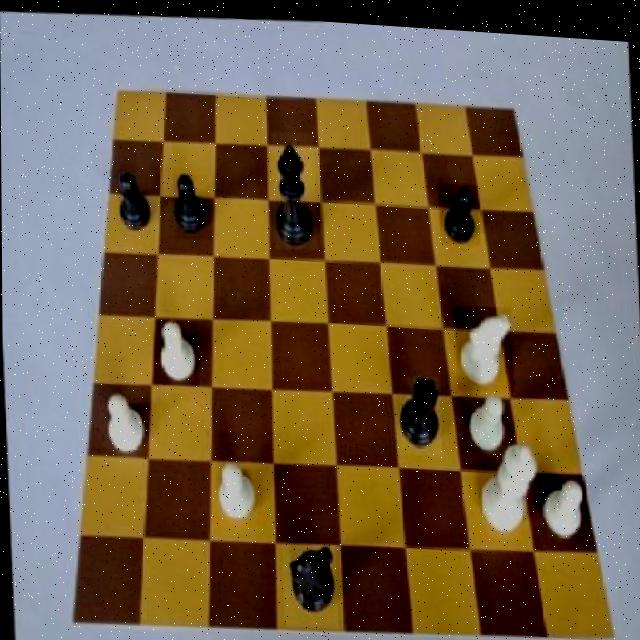black-bishop: (271, 128, 318, 248)
black-king: (283, 538, 339, 625)
black-knight: (438, 175, 481, 241), (173, 169, 211, 238), (114, 164, 150, 232)
black-queen: (396, 369, 442, 450)
white-bishop: (477, 425, 544, 541)
white-king: (454, 298, 515, 387)
white-knight: (99, 377, 149, 457), (537, 465, 587, 540), (209, 455, 263, 522), (458, 385, 512, 449), (150, 315, 198, 385)
